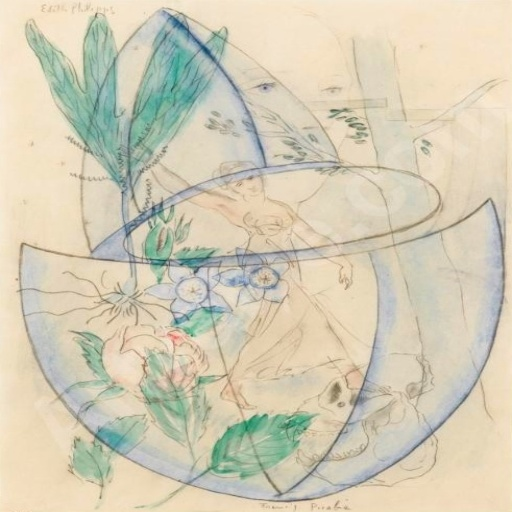hand: (114, 137, 154, 162), (334, 260, 353, 287)
